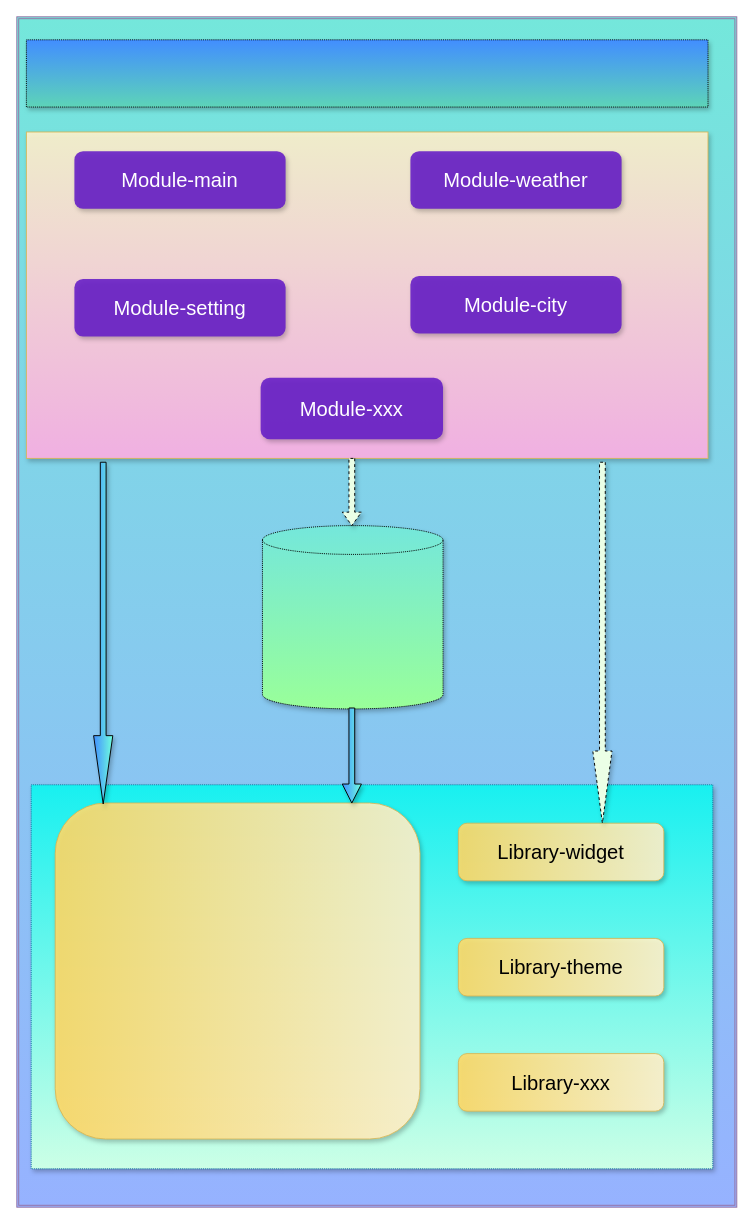
Some shapes in this 754 by 1224 pixel diagram are drawn without their labels. Each missing label, with the centre of its shape:
"App" belongs at point (368, 74).
"Library-base" belongs at point (238, 972).
"Module-data" belongs at point (353, 618).
